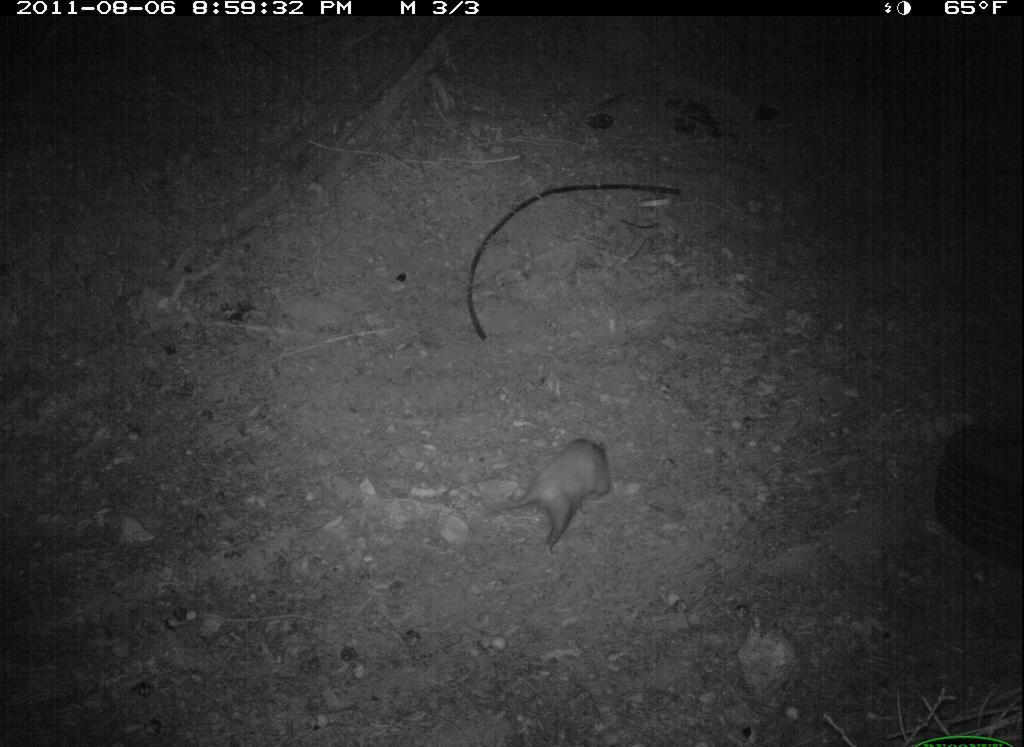opossum: (473, 434, 642, 561)
